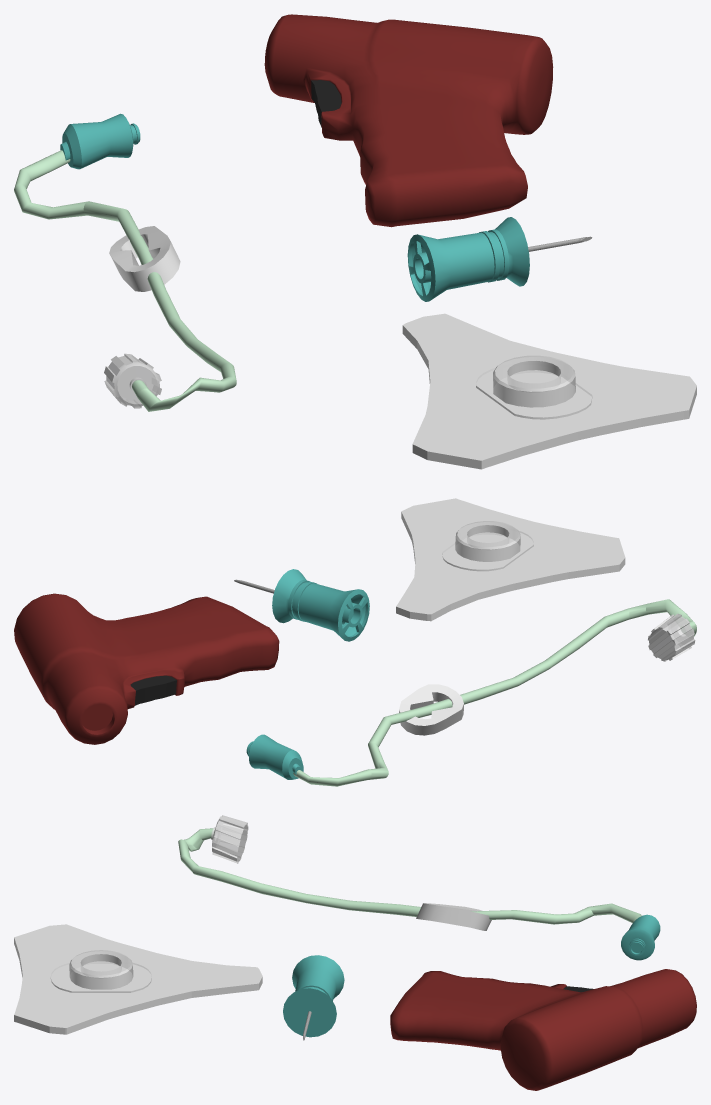
The model's file is bodocxuongchay.fbx.
3 renders of one model, top to bottom at view 1: azimuth 30°, elevation 25°; view 2: azimuth 150°, elevation 25°; view 3: azimuth 270°, elevation 25°, orthographic. The views are drawn at different scales.
Visible parts, largest first — view 1: pasted__pasted__drill, planarTrimmedSurface1, pasted__dayIOShape, pasted__pCylinder7, pasted__polySurface1, pasted__pCylinder5; view 2: pasted__pasted__drill, planarTrimmedSurface1, pasted__dayIOShape, pasted__pCylinder7, pasted__polySurface1, pasted__pCylinder5; view 3: pasted__pasted__drill, planarTrimmedSurface1, pasted__dayIOShape, pasted__pCylinder7, pasted__pCylinder5, pasted__polySurface1.
Part boxes in pixels (left/top/right/bottom): pasted__pasted__drill: left=264, top=14, right=553, bottom=227; planarTrimmedSurface1: left=402, top=313, right=696, bottom=469; pasted__dayIOShape: left=14, top=113, right=236, bottom=411; pasted__pCylinder7: left=476, top=355, right=592, bottom=419; pasted__polySurface1: left=407, top=232, right=592, bottom=301; pasted__pCylinder5: left=479, top=217, right=586, bottom=286; pasted__pasted__drill: left=14, top=593, right=279, bottom=744; planarTrimmedSurface1: left=396, top=498, right=625, bottom=621; pasted__dayIOShape: left=246, top=599, right=696, bottom=786; pasted__pCylinder7: left=442, top=521, right=533, bottom=571; pasted__polySurface1: left=234, top=579, right=369, bottom=641; pasted__pCylinder5: left=236, top=569, right=316, bottom=623; pasted__pasted__drill: left=390, top=969, right=696, bottom=1090; planarTrimmedSurface1: left=14, top=924, right=262, bottom=1034; pasted__dayIOShape: left=178, top=815, right=660, bottom=960; pasted__pCylinder7: left=50, top=950, right=151, bottom=992; pasted__pCylinder5: left=283, top=984, right=336, bottom=1039; pasted__polySurface1: left=292, top=955, right=344, bottom=1040.
Bounding box in the file's own units: 6.92 × 1.02 × 8.2.
